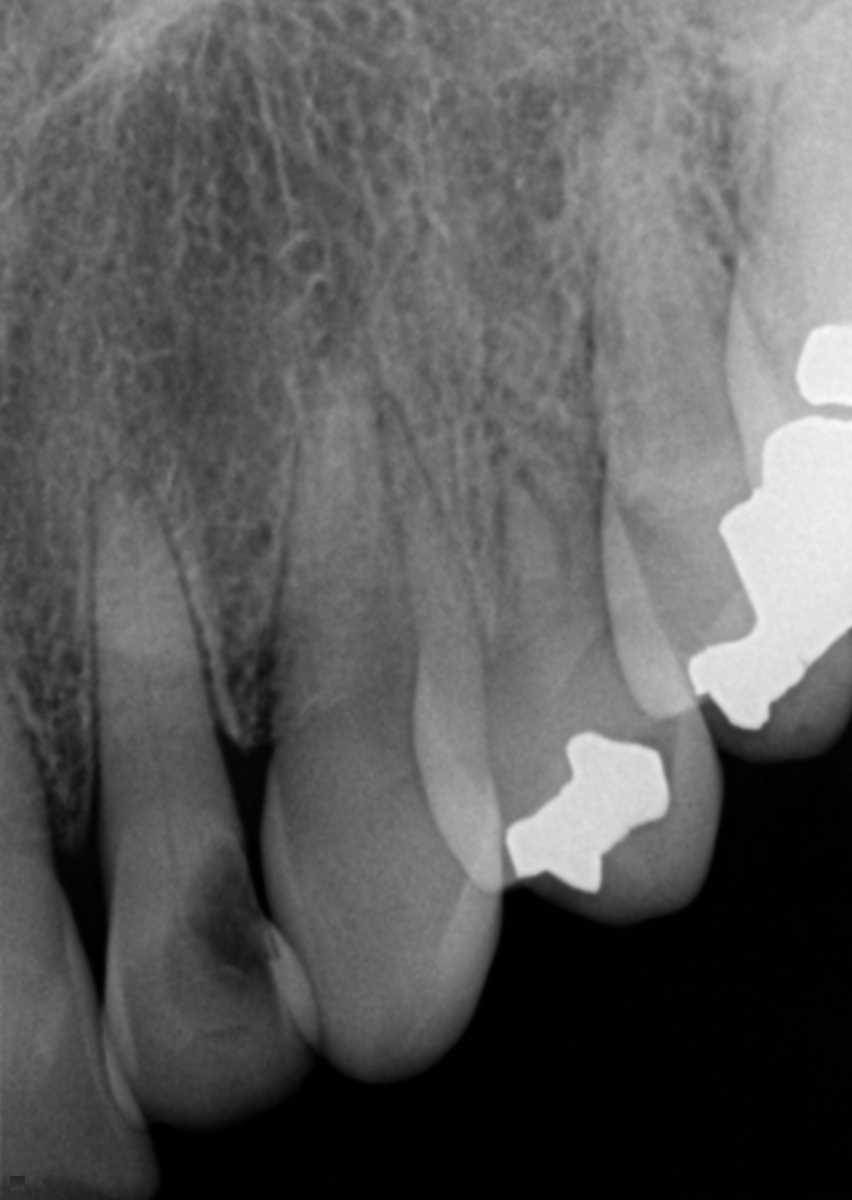Main Root: (381, 205, 658, 719), (581, 51, 824, 561), (263, 356, 482, 738), (93, 468, 224, 835)
decay: (163, 846, 279, 1027)
